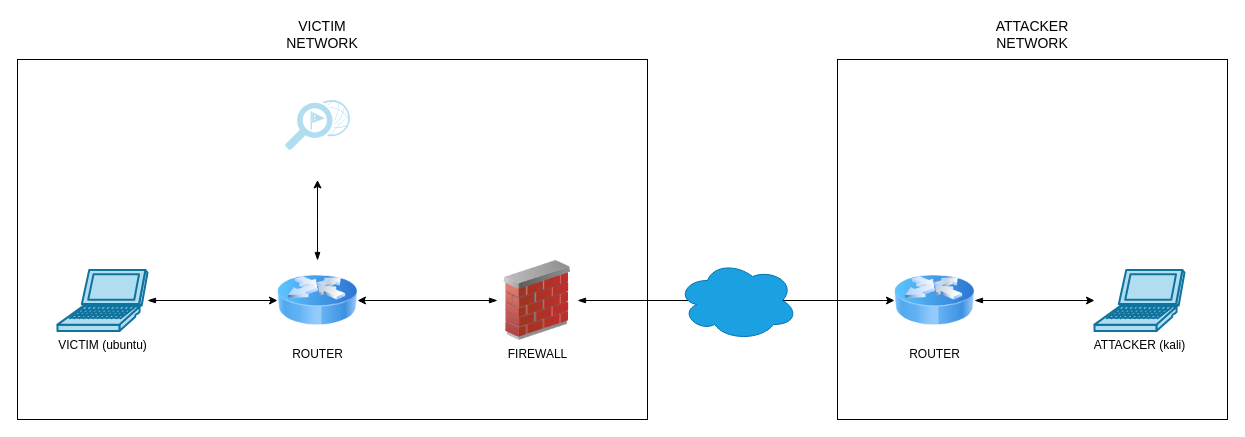
This 1245x437 diagram has some shape labels left out. Here are the shapes that lost their labels. From the top down, the centre of each, then its label:
(x=317, y=124): IDS (suricata)
(x=737, y=300): NETWORK
